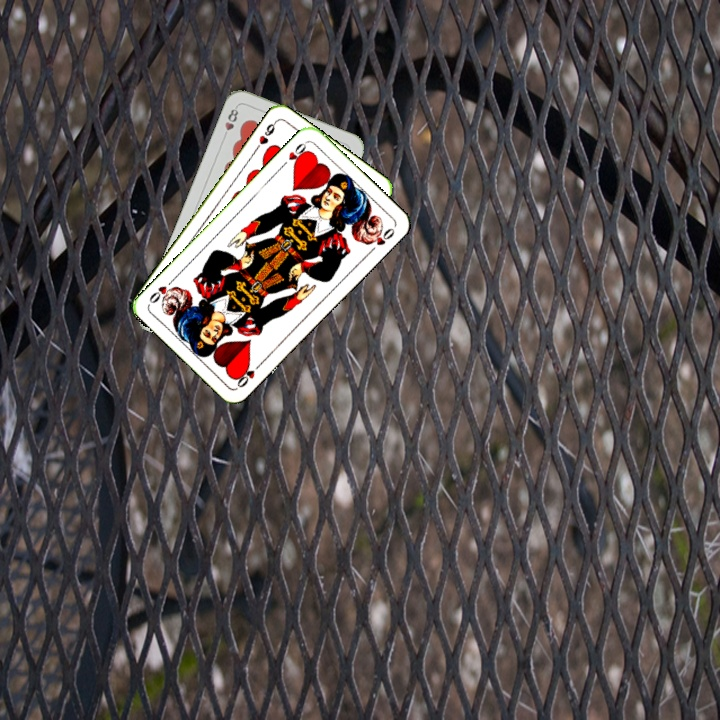H8: (219, 102, 241, 141)
H9: (252, 117, 279, 153)
HO: (277, 138, 311, 170), (232, 358, 265, 390)
